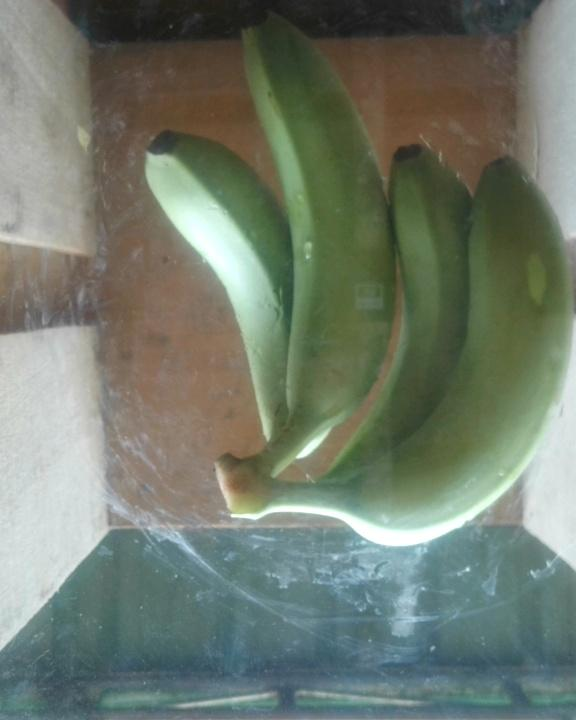SPOT: (122, 12, 576, 543)
